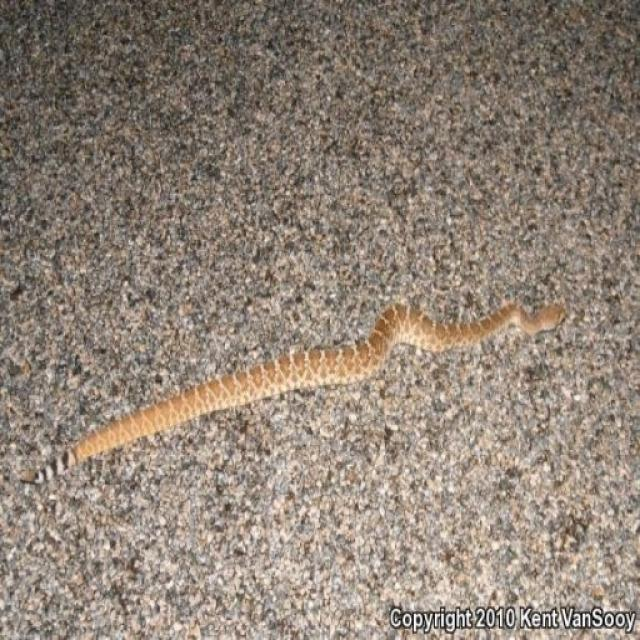snake: (31, 290, 586, 482)
